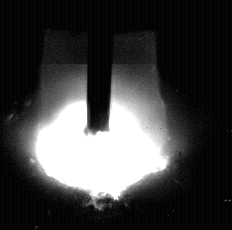arame: (88, 0, 111, 133)
poca: (34, 0, 163, 230)
